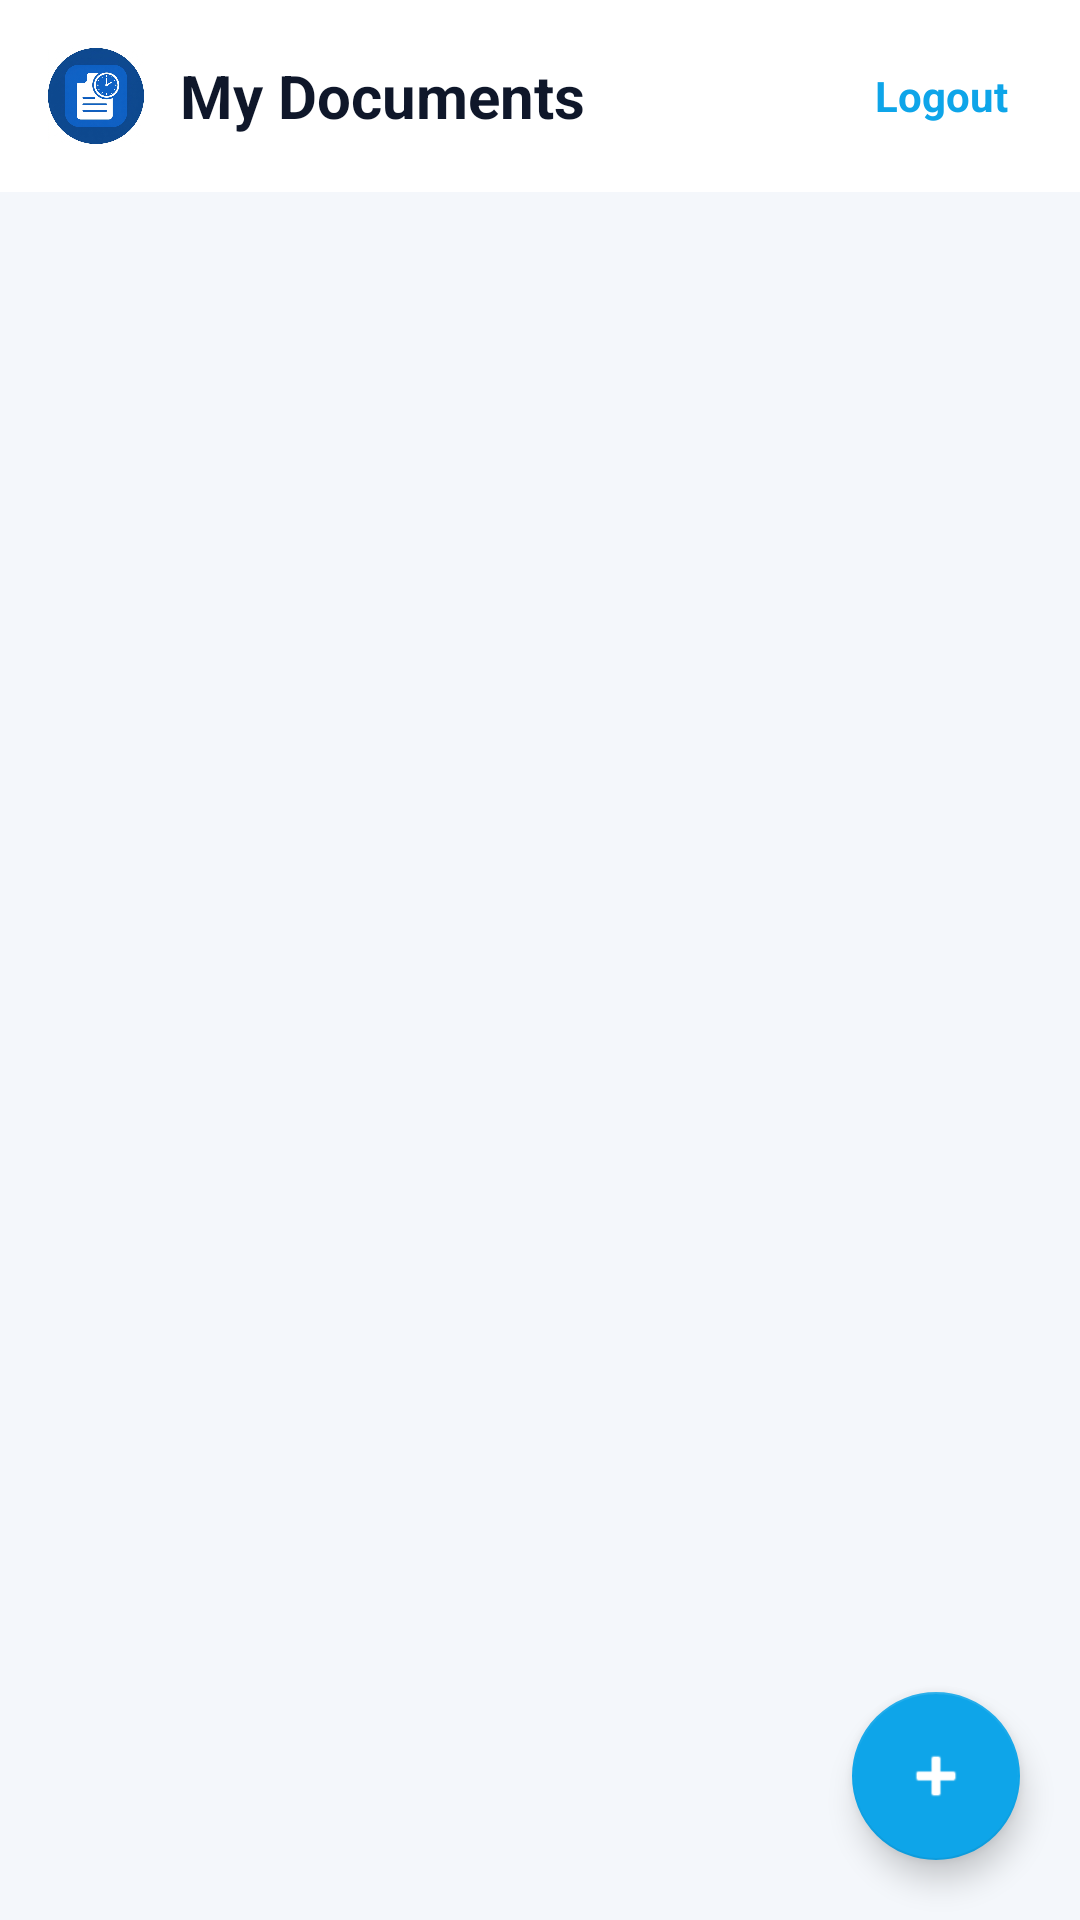

Named icons in this screenshot (1080*1920) and their centers, [x,y]:
Add document: [936,1776]
